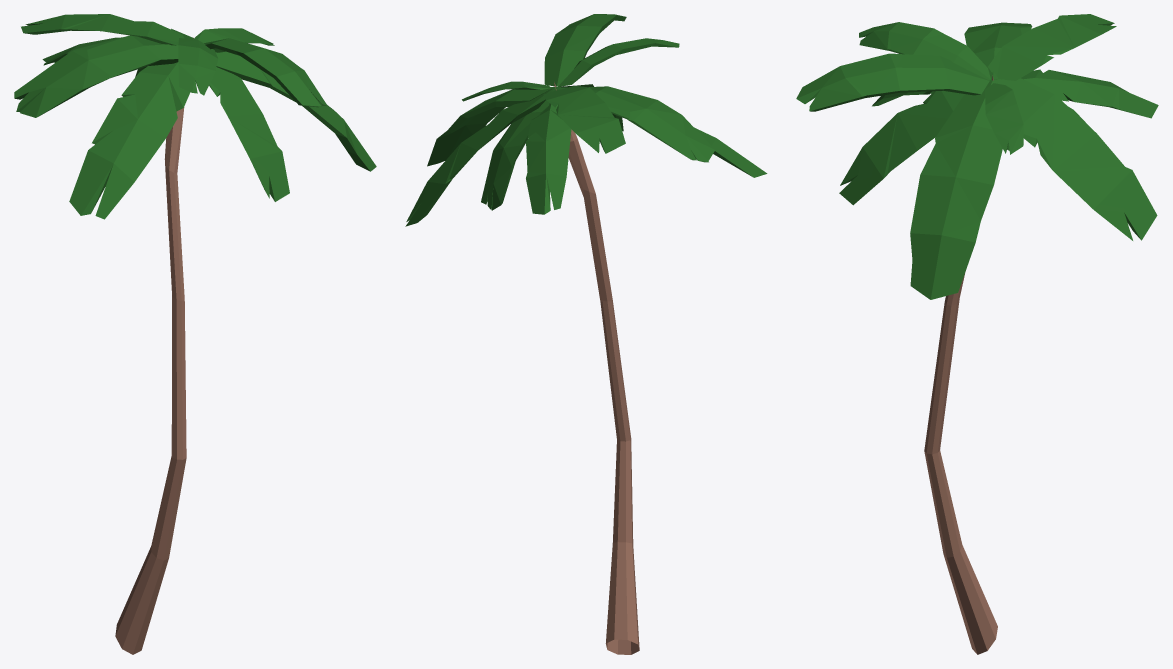
Rendered from Palm B.fbx.
3 views of the same model, side by side, from view 1: azimuth 30°, elevation 25°; view 2: azimuth 150°, elevation 25°; view 3: azimuth 270°, elevation 25° (orthographic). The views are drawn at different scales.
Parts seen in each view (by area): view 1: Palm B; view 2: Palm B; view 3: Palm B.
Part boxes in pixels (left/top/right/bottom): Palm B: left=14, top=14, right=376, bottom=654; Palm B: left=405, top=14, right=767, bottom=654; Palm B: left=796, top=14, right=1158, bottom=654.
Size of the model in its own units: 582 by 1062 by 550.
